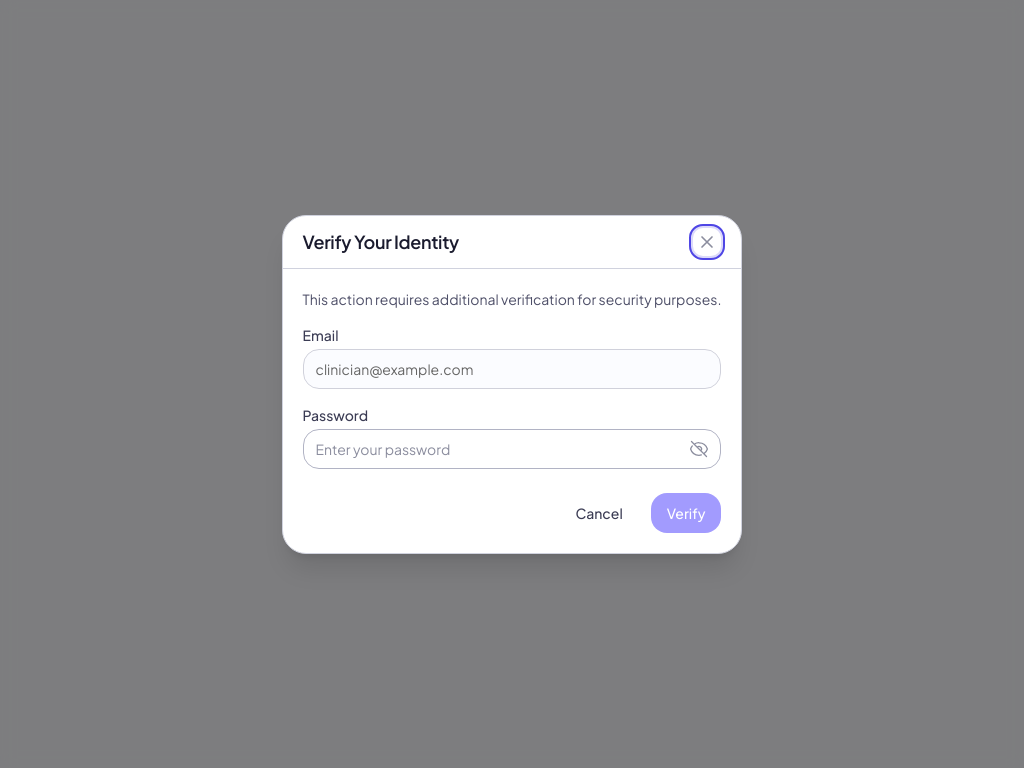
StepUpAuth › shows email copy for legacy email step-up challenges
Type "DemoPassword2026!" into the password field labelled "Password". click: (512, 448)
box: 302,428 -> 722,468
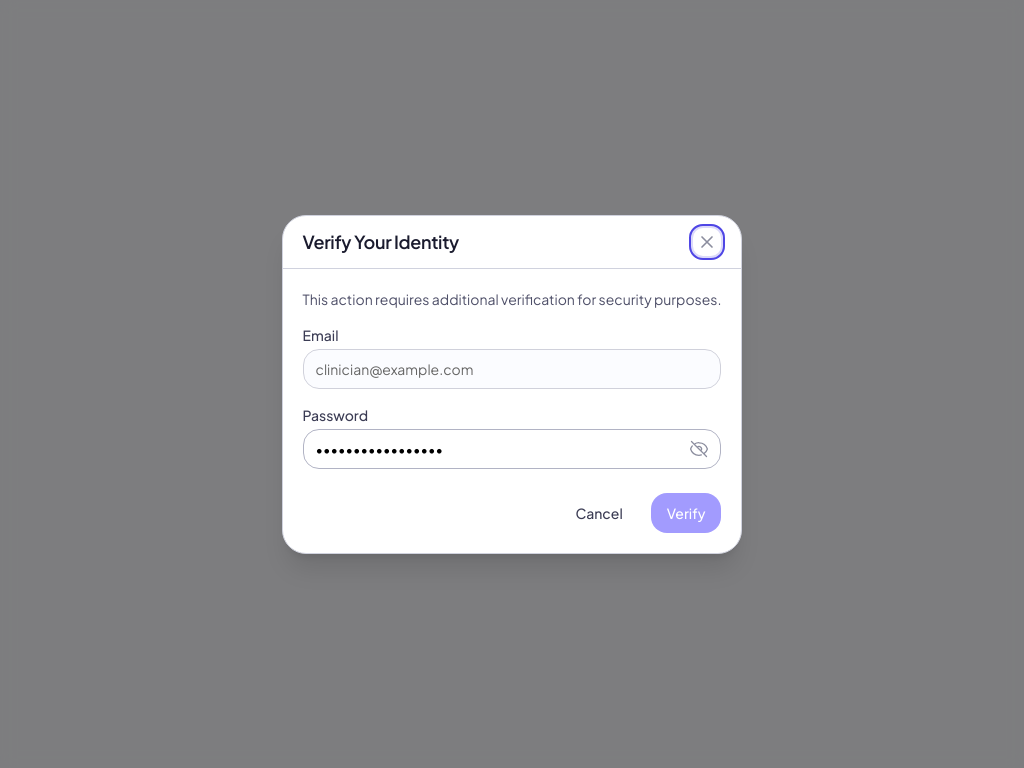
Click the button "Verify". click: (686, 512)
box: 651,492 -> 722,532
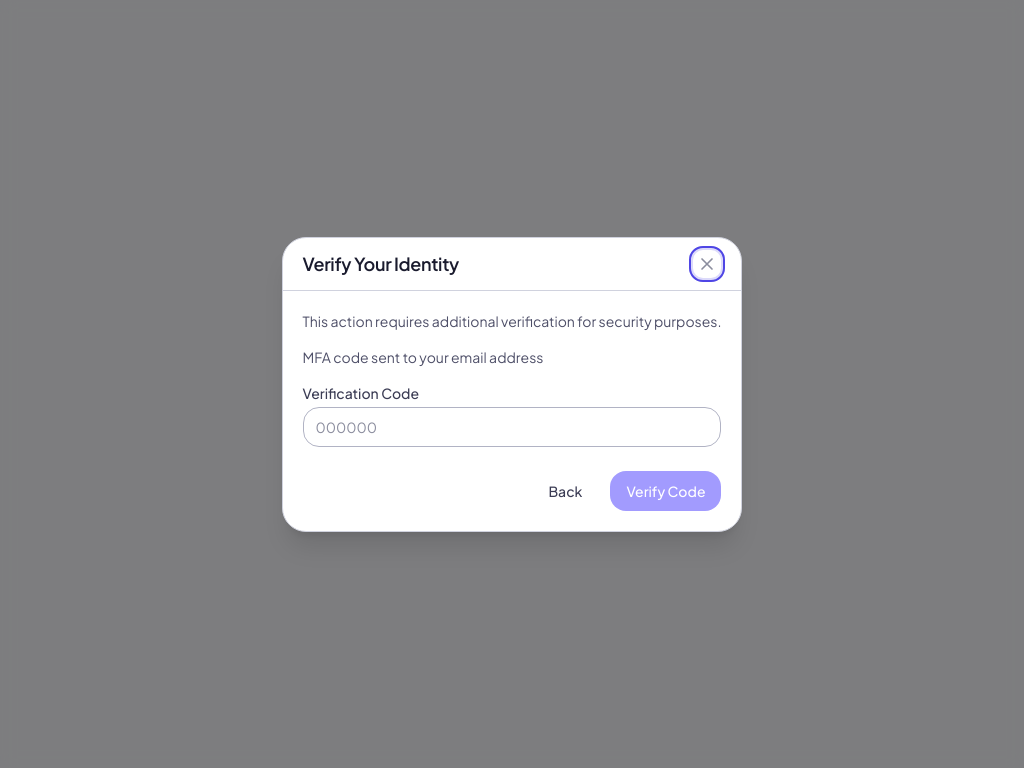
Check: the field labelled "Verification Code" is shown, box 302,406 -> 722,446
Check: the text "MFA code sent to your email address" is shown, box 302,348 -> 543,366
